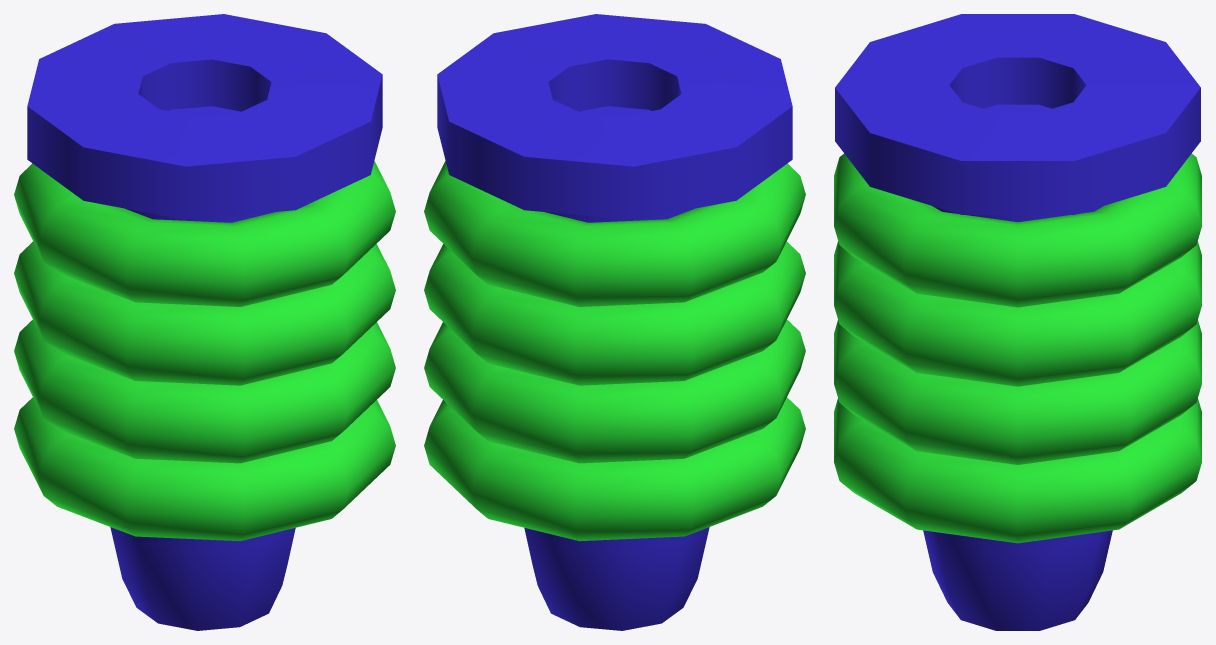
Rendered from screw_string4.fbx.
The picture shows the model from 3 angles, left to right: view 1: azimuth 30°, elevation 25°; view 2: azimuth 150°, elevation 25°; view 3: azimuth 270°, elevation 25°; orthographic projection.
Parts seen in each view (by area): view 1: string4, screw; view 2: string4, screw; view 3: string4, screw.
Boxes of the visible parts, x1,y1,x2,y2 form: string4: [14, 161, 395, 541]; screw: [27, 14, 382, 630]; string4: [424, 161, 805, 541]; screw: [437, 14, 792, 630]; string4: [834, 153, 1201, 543]; screw: [835, 14, 1200, 630].
Bounding box in the file's own units: 0.4161 × 0.6139 × 0.3957.
